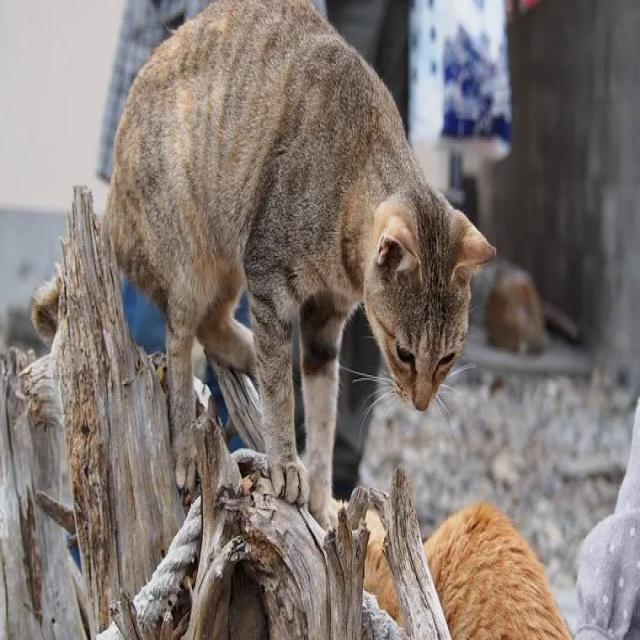cat: (105, 2, 495, 525), (424, 504, 570, 638), (364, 510, 404, 625), (488, 270, 542, 352), (32, 272, 60, 341)
